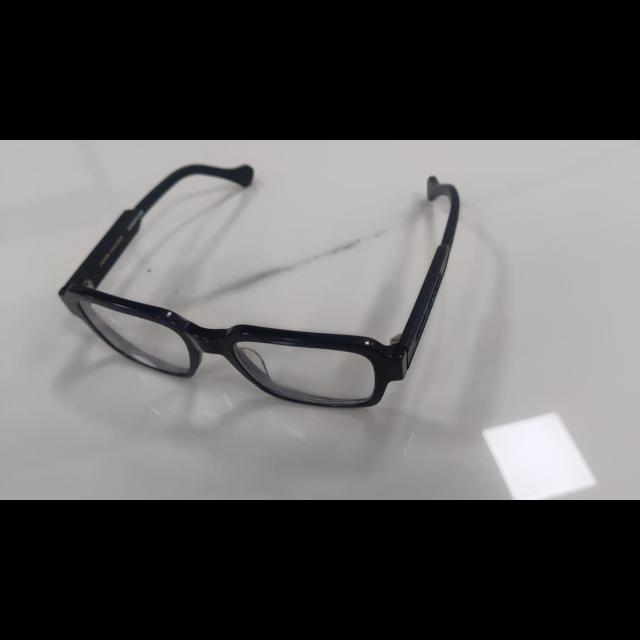glasses: (64, 165, 452, 407)
